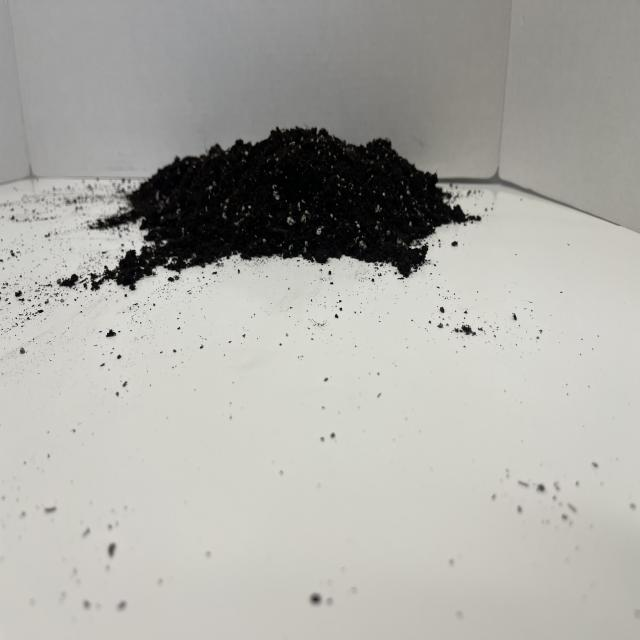soil: (68, 122, 480, 293)
